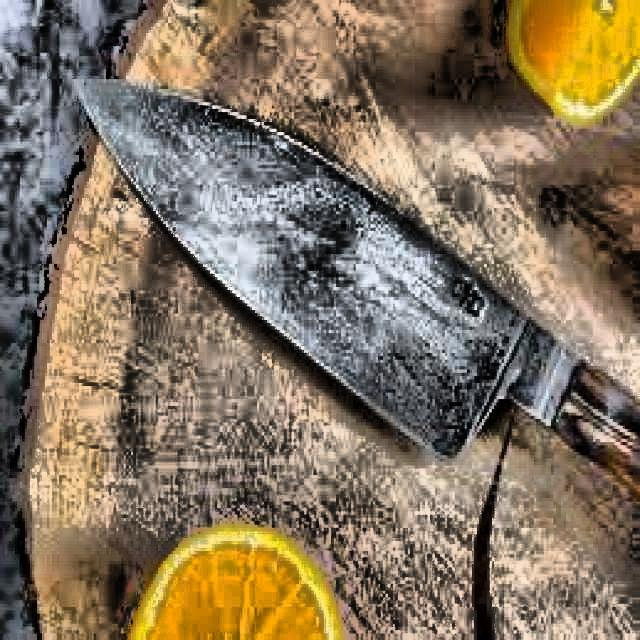knife: (77, 81, 639, 504)
